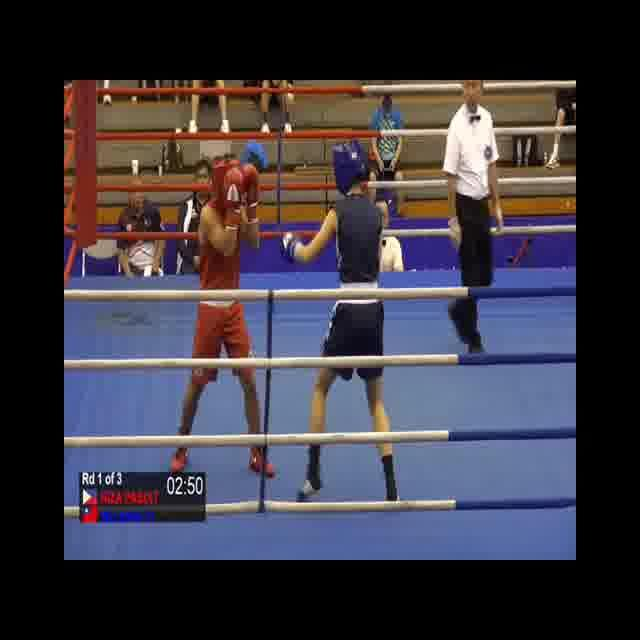blue-player: (280, 136, 403, 511)
red-player: (166, 152, 278, 480)
referee: (439, 80, 500, 358)
